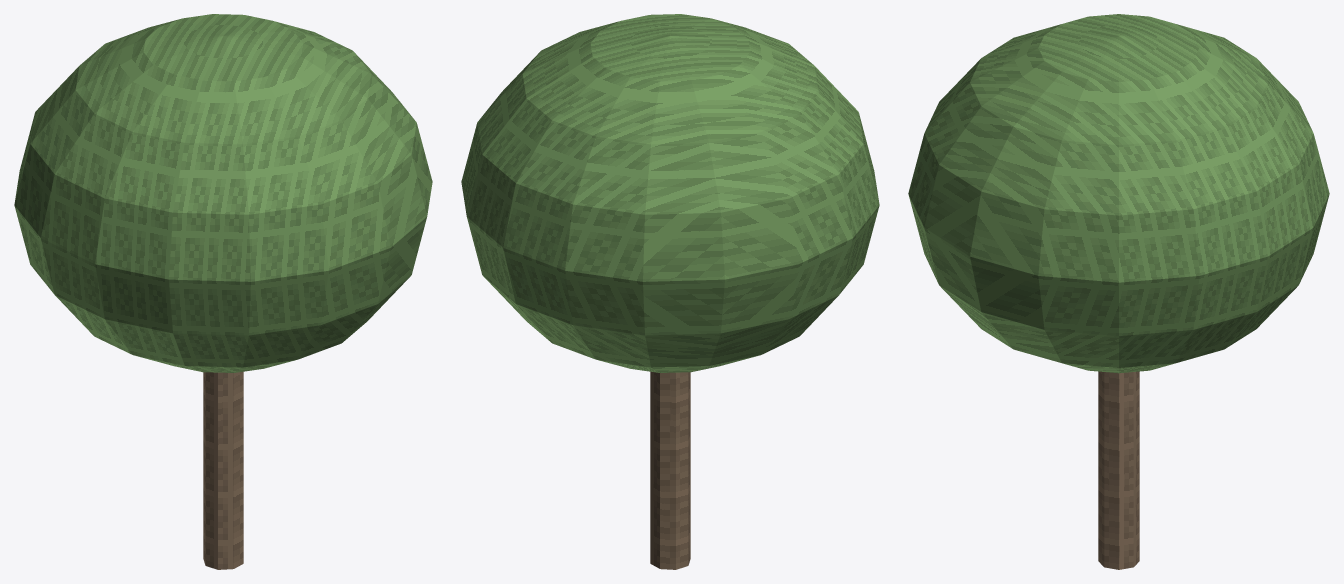
File: tree_oak_large.glb
3 views of the same model, side by side, from view 1: azimuth 30°, elevation 25°; view 2: azimuth 150°, elevation 25°; view 3: azimuth 270°, elevation 25° (orthographic).
Bounding box in the file's own units: 8 × 11 × 8.
2 materials, 2 textured.
